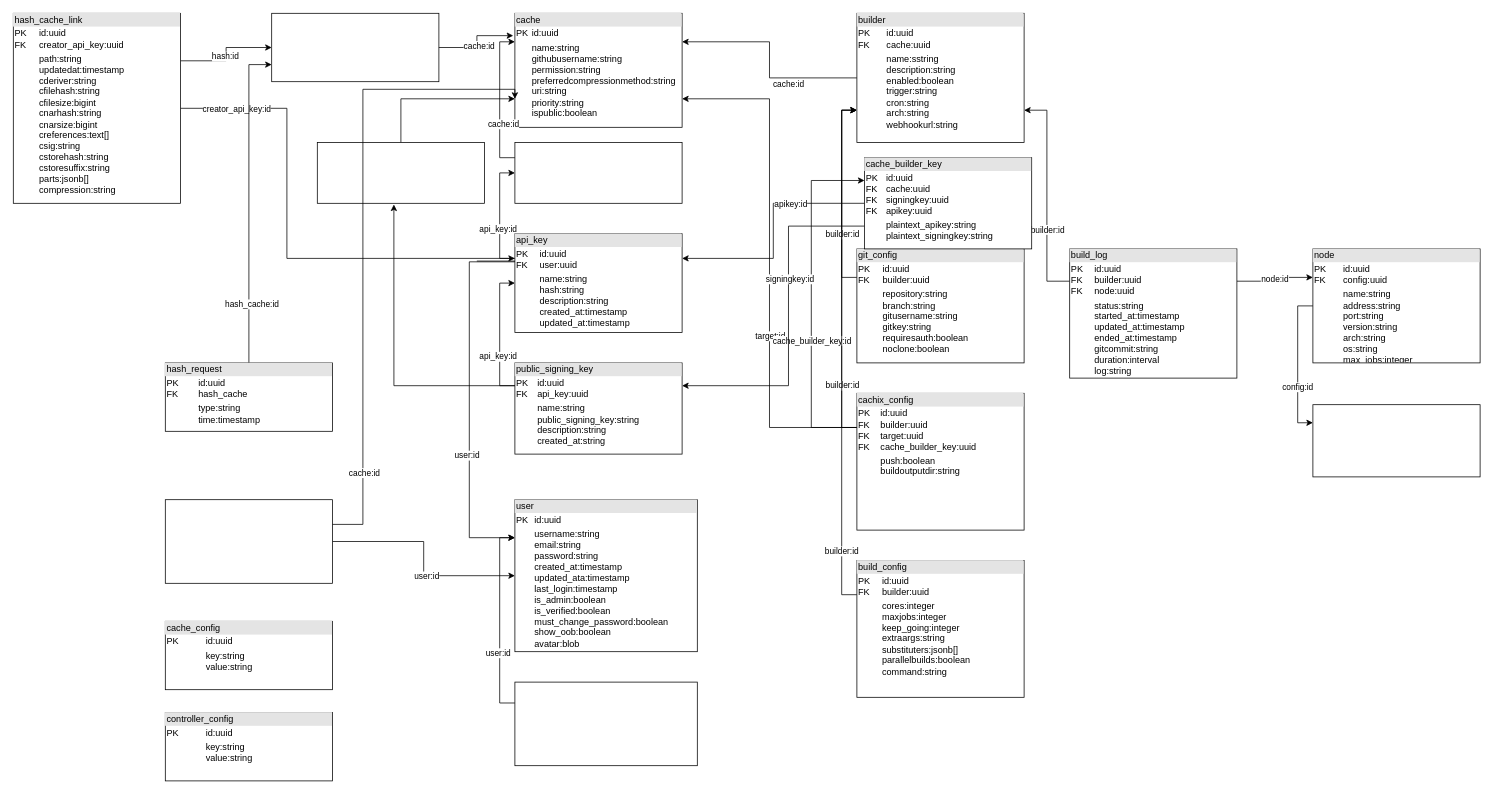
Image size: 1493x794. Some labels were removed from this diagram. Each missing label, with the centre of its shape:
cache_apikey_link PK FK FK id:uuid cache:uuid api_key:uuid: pixel 598 172
cache_signingkey_link PK FK FK id:uuid cache:uuid signing_key:uuid: pixel 400 172
cache_user_link PK FK FK id:uuid user:uuid cache:uuid: pixel 248 541
hash_cache_link PK FK FK id:uuid cache:uuid hash:uuid: pixel 355 47
node_config PK id:uuid version:string data:jsonb: pixel 1396 440
user_log PK FK id:uuid user:uuid time:timestamp type:string data:jsonb: pixel 605 723
